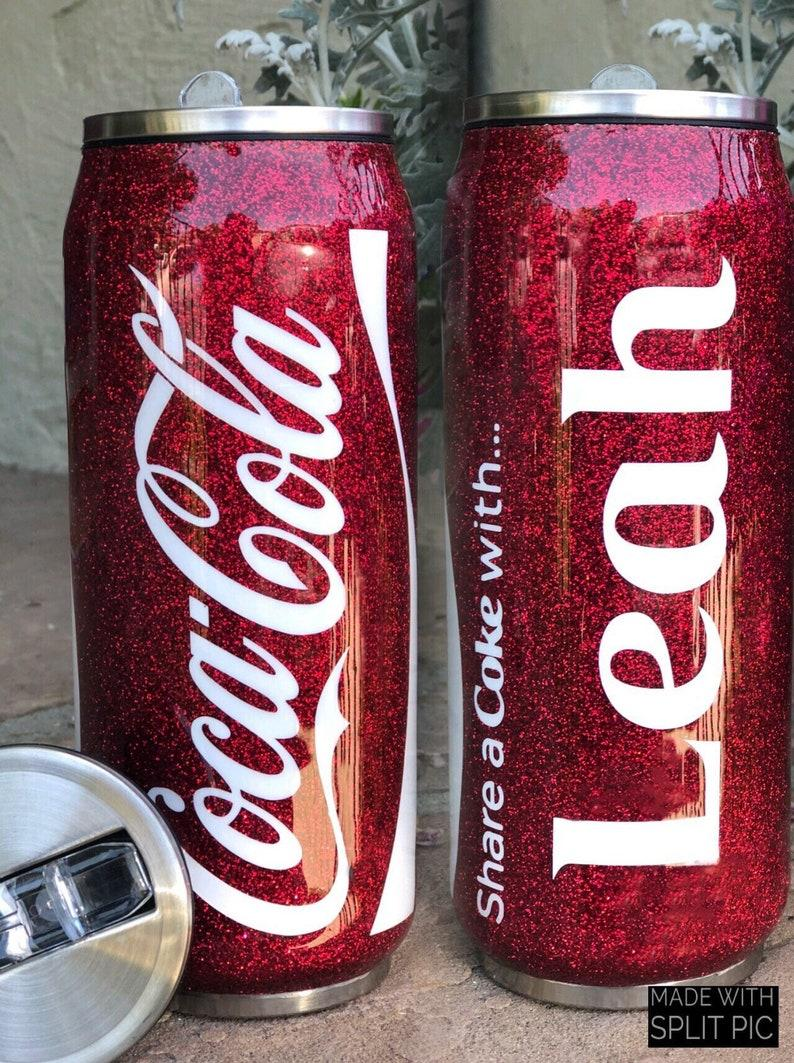can: (51, 91, 432, 1029), (444, 78, 794, 1033)
